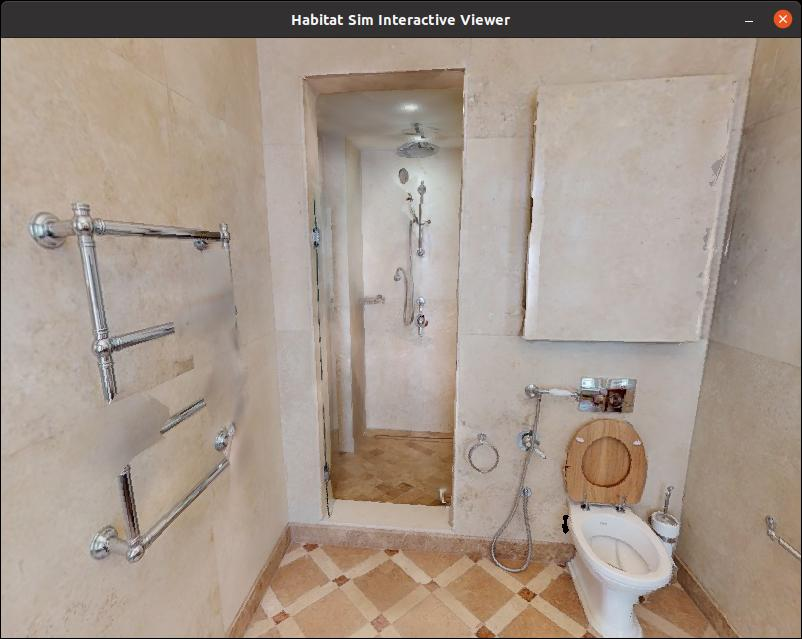door-frame: (299, 55, 476, 536)
shower: (335, 101, 462, 491)
toilet: (543, 401, 684, 639)
